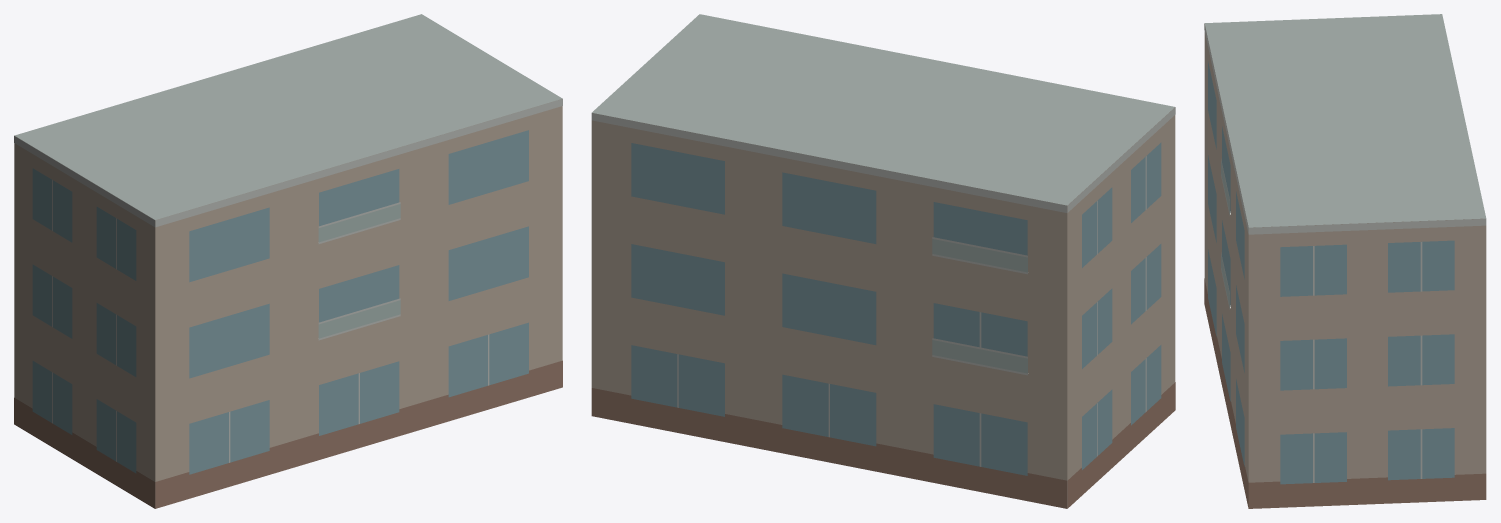
The model's file is survey-upis-32716267.glb.
3 renders of one model, left to right at view 1: azimuth 30°, elevation 25°; view 2: azimuth 150°, elevation 25°; view 3: azimuth 270°, elevation 25°, orthographic. The views are drawn at different scales.
Visible parts, largest first — view 1: survey-upis-32716267.tmp; view 2: survey-upis-32716267.tmp; view 3: survey-upis-32716267.tmp.
Boxes of the visible parts, left/top/right/bottom form: survey-upis-32716267.tmp: left=14, top=14, right=562, bottom=508; survey-upis-32716267.tmp: left=591, top=14, right=1175, bottom=508; survey-upis-32716267.tmp: left=1204, top=14, right=1486, bottom=508.
Size of the model in its own units: 15.81 by 9.7 by 8.82.
